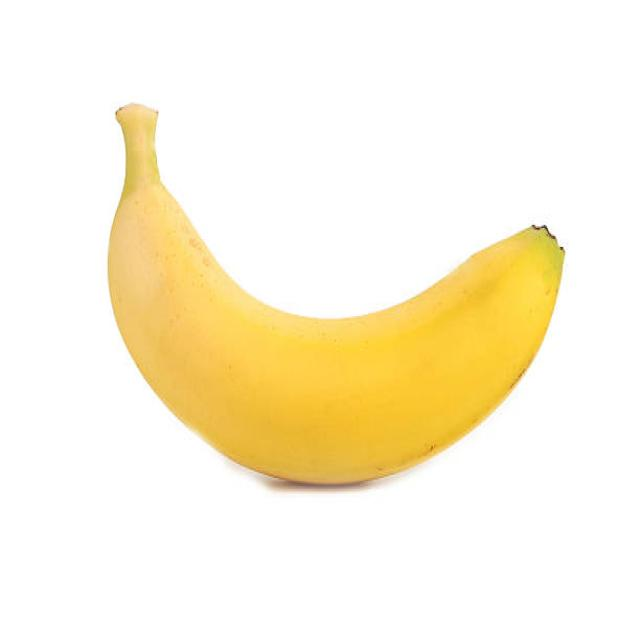Ripe: (105, 92, 570, 494)
